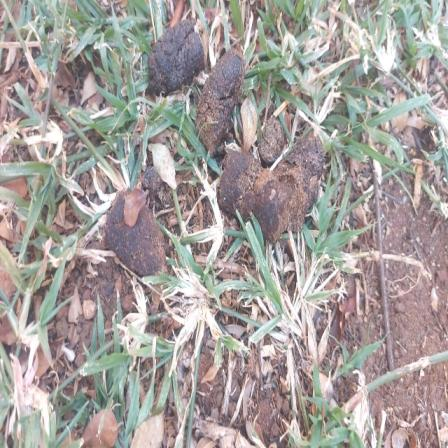dog-poop: (201, 138, 352, 238), (143, 30, 256, 144), (80, 186, 191, 280)
